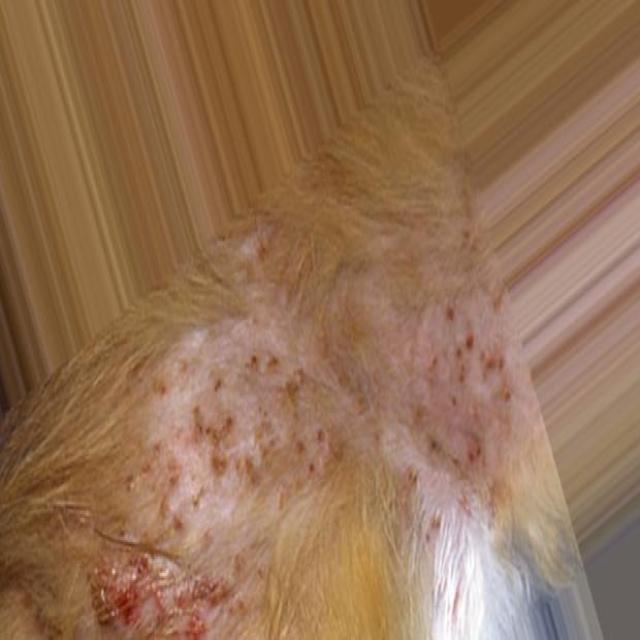di ung bo chet: (12, 282, 590, 640)
